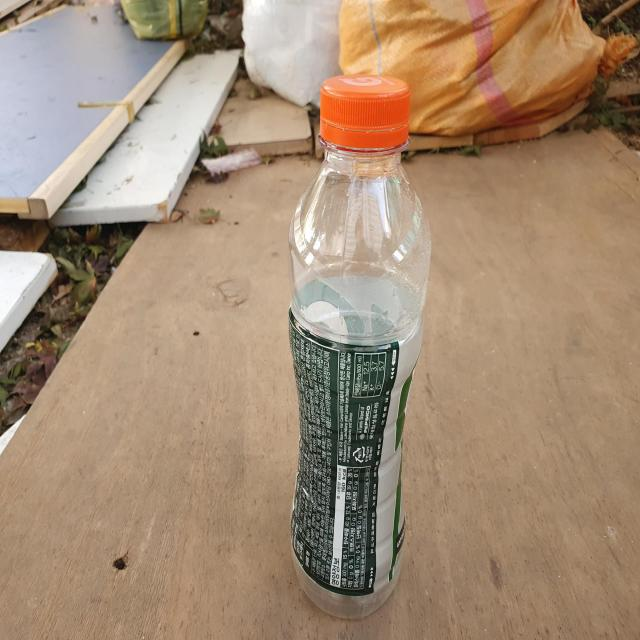plastic: (289, 73, 431, 619)
